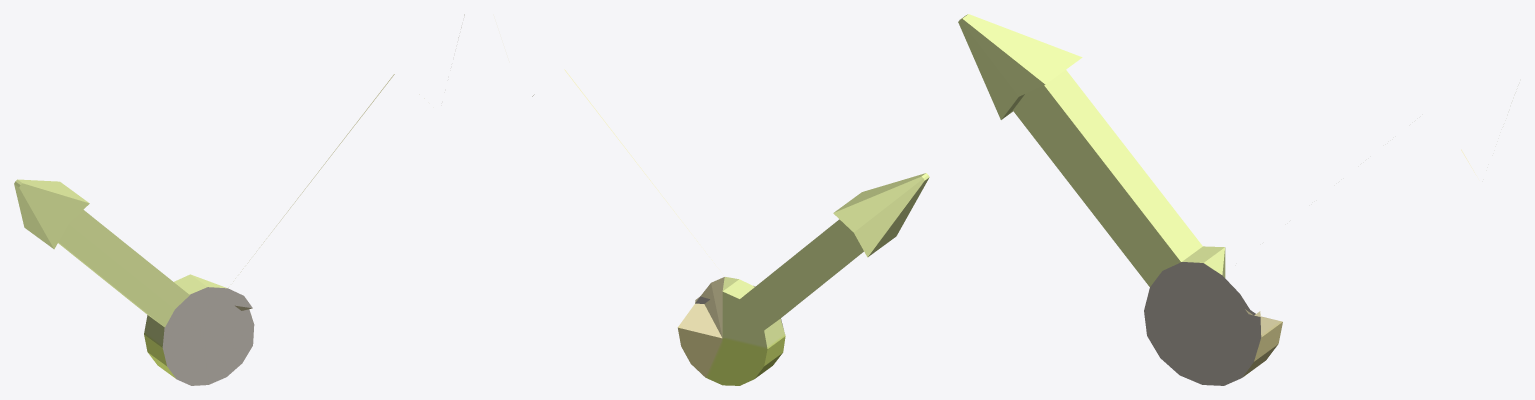
The model's file is Horario.fbx.
3 renders of one model, left to right at view 1: azimuth 30°, elevation 25°; view 2: azimuth 150°, elevation 25°; view 3: azimuth 330°, elevation 25°, orthographic. The views are drawn at different scales.
Parts seen in each view (by area): view 1: Horario; view 2: Horario; view 3: Horario.
Part boxes in pixels (x1,y1,x2,y2): Horario: [14, 14, 464, 385]; Horario: [532, 69, 929, 385]; Horario: [958, 14, 1476, 385].
Bounding box in the file's own units: 71.27 × 46.82 × 8.25.
